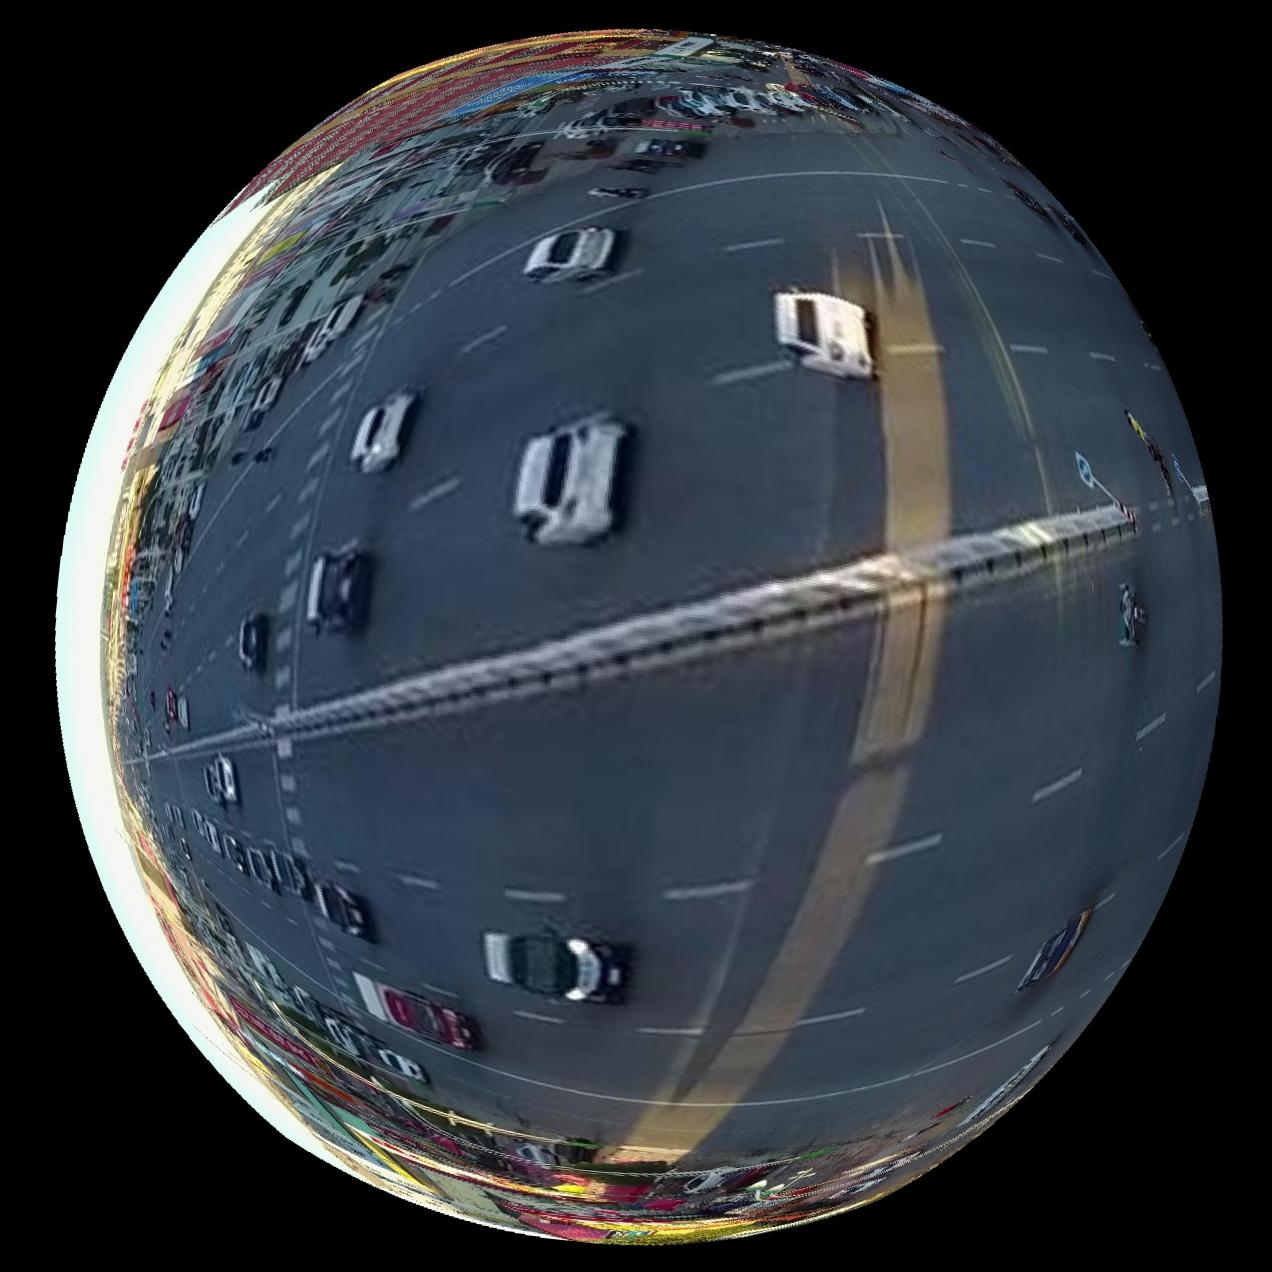building: (215, 25, 690, 218)
cars: (513, 408, 633, 543), (481, 928, 629, 1005), (352, 972, 476, 1051), (774, 286, 875, 376), (1017, 907, 1095, 992), (305, 538, 370, 634), (349, 383, 420, 470), (523, 222, 620, 280), (313, 881, 374, 943), (270, 848, 310, 900), (237, 611, 268, 673)
